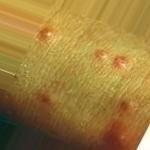Ants: (103, 117, 128, 149), (31, 86, 58, 113), (33, 22, 58, 47), (113, 55, 128, 69), (120, 100, 133, 112), (93, 48, 107, 59)
